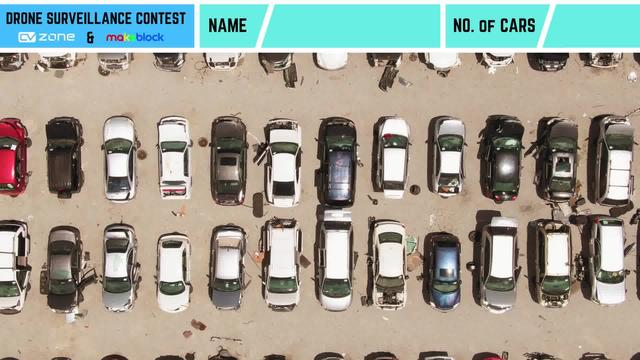car: (529, 218, 574, 309), (315, 210, 354, 313), (367, 219, 409, 309), (480, 217, 519, 313), (318, 115, 358, 207), (98, 116, 140, 203), (589, 217, 630, 306), (208, 118, 249, 205), (263, 121, 304, 208), (263, 216, 299, 315), (154, 117, 195, 200), (483, 117, 522, 203), (542, 119, 581, 205), (596, 117, 635, 203), (45, 117, 85, 199), (423, 232, 464, 312), (102, 225, 137, 311), (46, 226, 81, 312), (374, 115, 409, 200), (432, 116, 467, 201), (210, 225, 243, 313), (157, 232, 192, 314), (1, 220, 30, 314), (1, 116, 32, 197)
